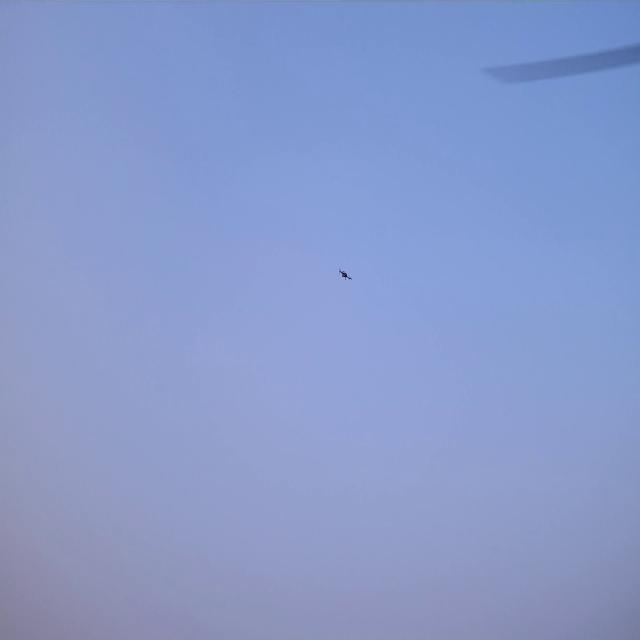UAV: (339, 270, 351, 278)
